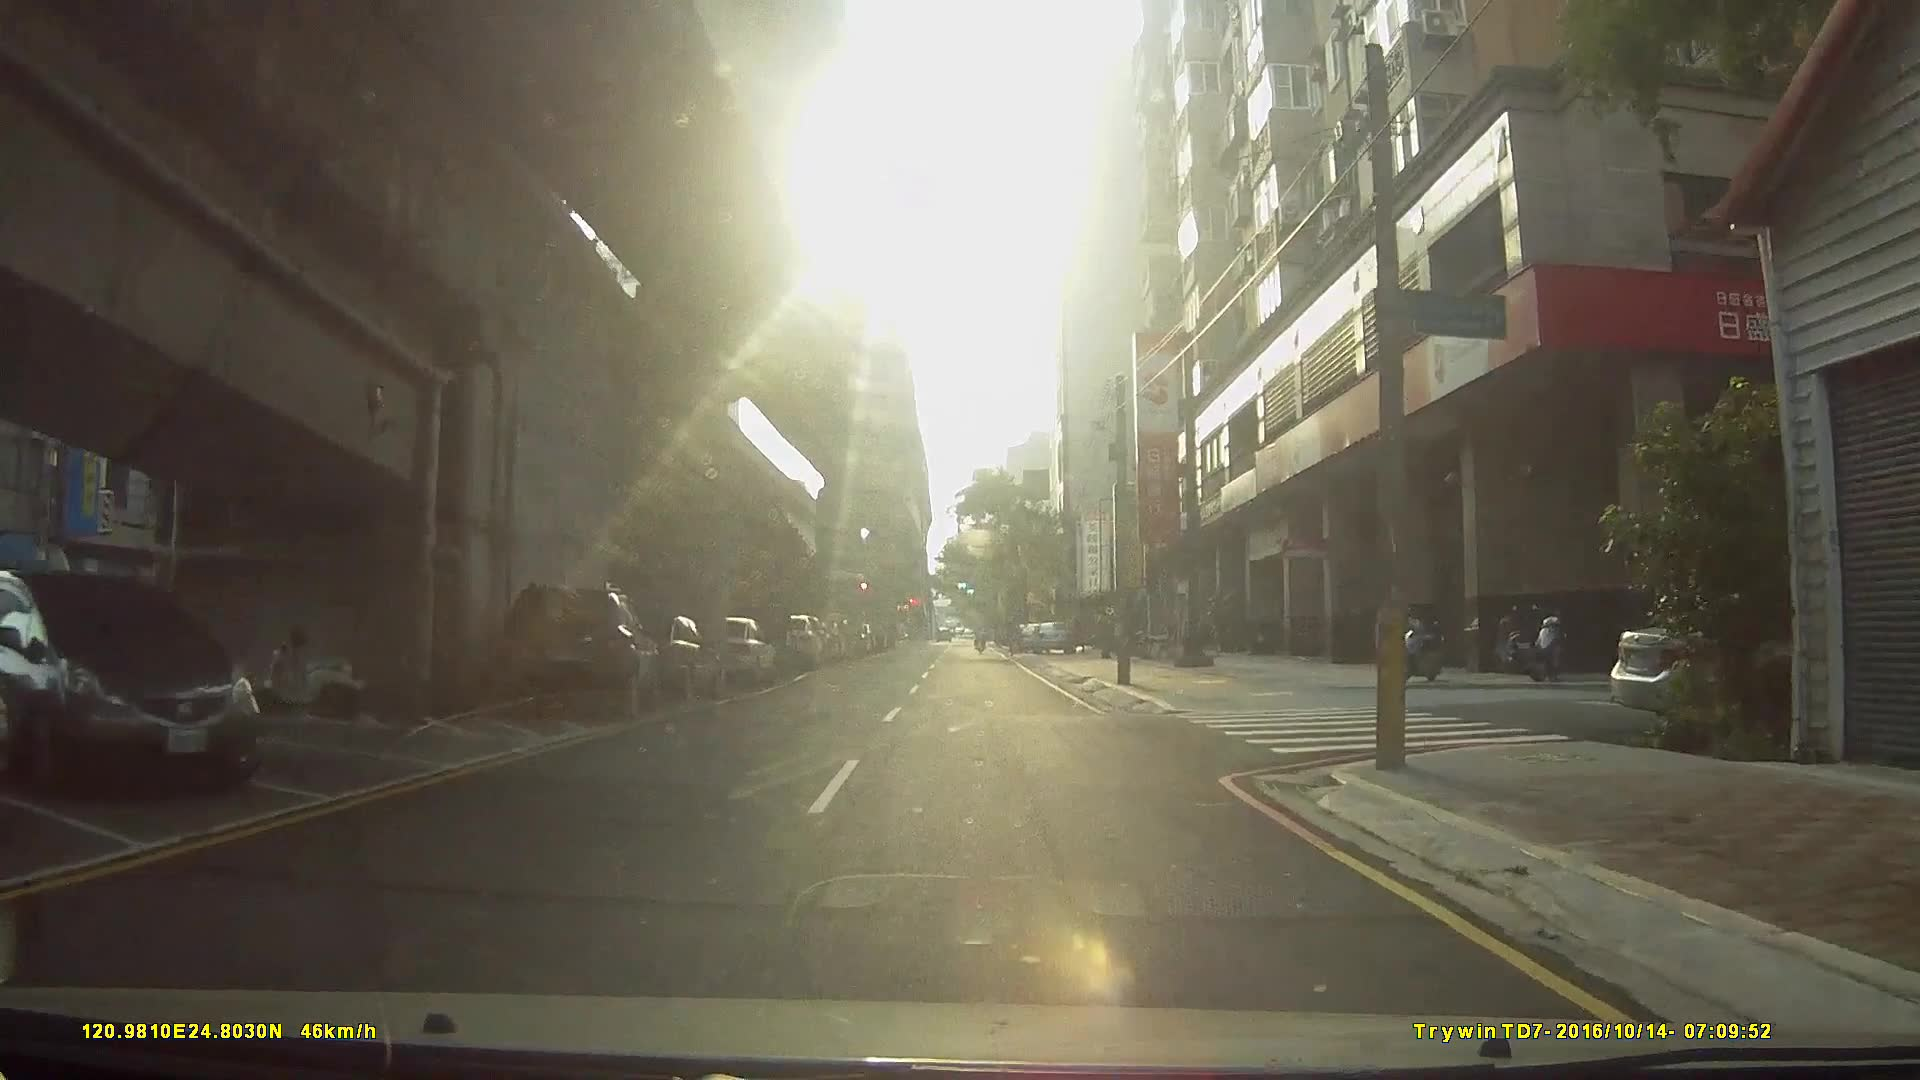vehicle: (0, 574, 261, 796), (492, 582, 661, 719), (589, 612, 724, 702), (659, 620, 794, 670), (692, 616, 775, 691), (1029, 621, 1073, 655)
